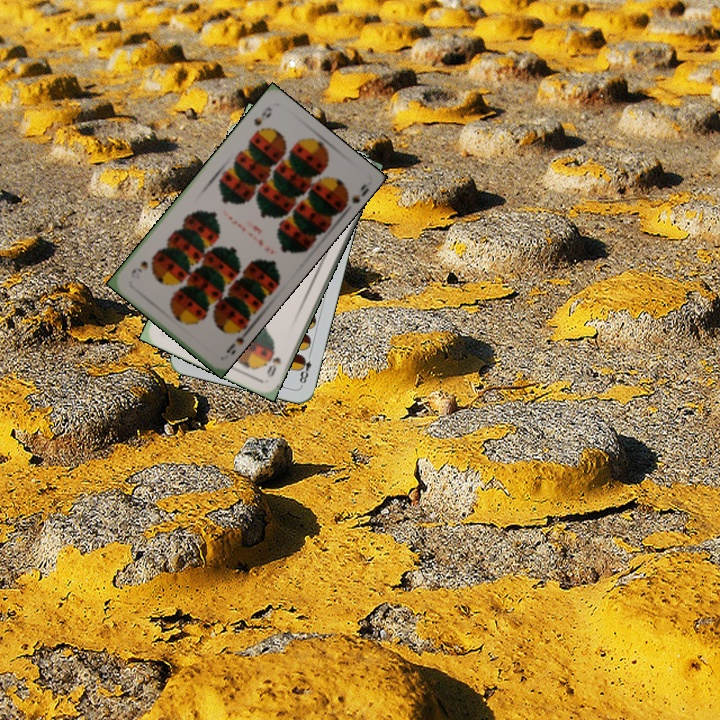E8: (295, 348, 314, 388)
S9: (222, 322, 248, 356), (249, 102, 275, 129)
SO: (262, 347, 284, 380)
